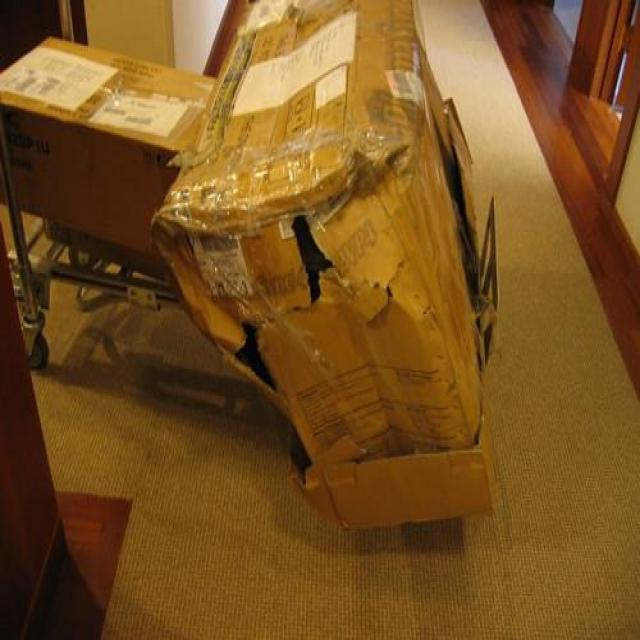damaged: (286, 206, 346, 318), (225, 314, 278, 394)
